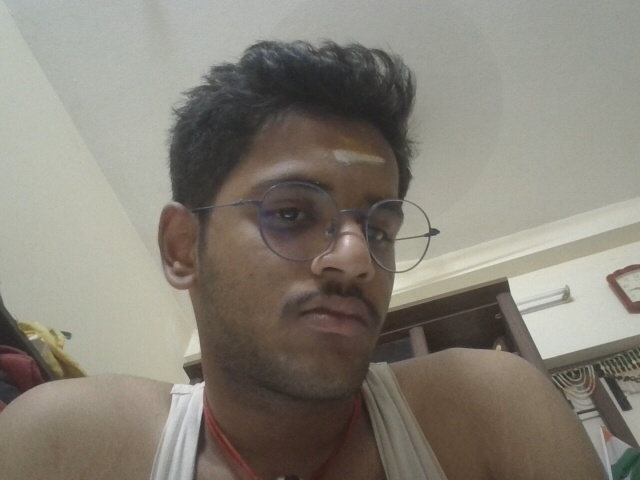real: (216, 68, 401, 253)
